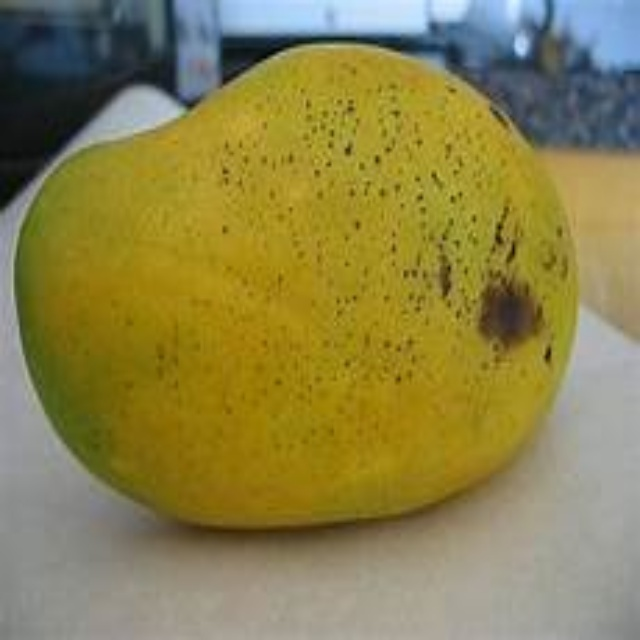mango: (15, 39, 584, 533)
